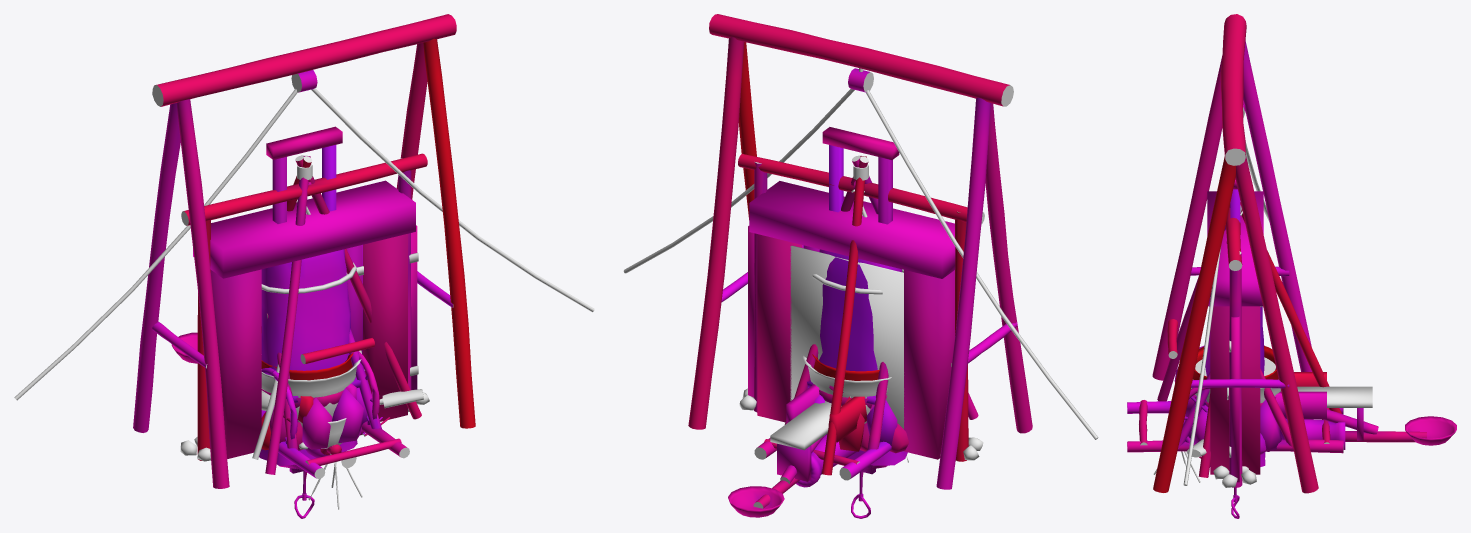
Rendered from court_exec_props.glb.
3 renders of one model, left to right at view 1: azimuth 30°, elevation 25°; view 2: azimuth 150°, elevation 25°; view 3: azimuth 270°, elevation 25°, orthographic. The views are drawn at different scales.
Visible parts, largest first — view 1: monolith_rig, pit_gate, monolith, gallows, hoist, catapult, blade_frame, crucible, pit_gate_door, cauldron_clay, cannon, boulder_ledge (+2 smaller); view 2: pit_gate, monolith_rig, blade_frame, gallows, monolith, hoist, catapult, cannon, catapult_arm, cauldron_clay, crucible, pit_gate_door (+2 smaller); view 3: monolith_rig, pit_gate, catapult, hoist, gallows, cannon, catapult_arm, blade_frame, pit_gate_door, crucible, cannon_barrel, cauldron_bronze (+1 smaller).
Part boxes in pixels (left/top/right/bottom): monolith_rig: left=14, top=14, right=594, bottom=488; pit_gate: left=193, top=180, right=415, bottom=458; monolith: left=259, top=206, right=357, bottom=465; gallows: left=180, top=153, right=429, bottom=461; hoist: left=265, top=155, right=421, bottom=474; catapult: left=261, top=313, right=409, bottom=478; blade_frame: left=266, top=126, right=346, bottom=448; crucible: left=261, top=387, right=423, bottom=449; pit_gate_door: left=346, top=225, right=418, bottom=389; cauldron_clay: left=261, top=350, right=361, bottom=450; cannon: left=261, top=351, right=379, bottom=443; boulder_ledge: left=252, top=364, right=364, bottom=459; pit_gate: left=749, top=181, right=955, bottom=459; monolith_rig: left=623, top=14, right=1098, bottom=489; blade_frame: left=770, top=127, right=899, bottom=481; gallows: left=738, top=154, right=984, bottom=461; monolith: left=812, top=205, right=907, bottom=465; hoist: left=822, top=155, right=978, bottom=475; catapult: left=754, top=344, right=891, bottom=480; cannon: left=780, top=384, right=866, bottom=483; catapult_arm: left=728, top=455, right=908, bottom=517; cauldron_clay: left=802, top=355, right=891, bottom=451; crucible: left=814, top=395, right=897, bottom=451; pit_gate_door: left=748, top=226, right=819, bottom=397; monolith_rig: left=1152, top=14, right=1318, bottom=493; pit_gate: left=1207, top=191, right=1263, bottom=474; catapult: left=1127, top=319, right=1343, bottom=453; hoist: left=1157, top=201, right=1341, bottom=477; gallows: left=1213, top=207, right=1256, bottom=487; cannon: left=1174, top=346, right=1378, bottom=442; catapult_arm: left=1153, top=416, right=1456, bottom=482; blade_frame: left=1230, top=179, right=1372, bottom=440; pit_gate_door: left=1227, top=316, right=1239, bottom=482; crucible: left=1183, top=399, right=1287, bottom=457; cannon_barrel: left=1304, top=419, right=1345, bottom=449; cauldron_bronze: left=1193, top=346, right=1278, bottom=379.
Size of the model in its own units: 6.83 by 5.81 by 3.96.
